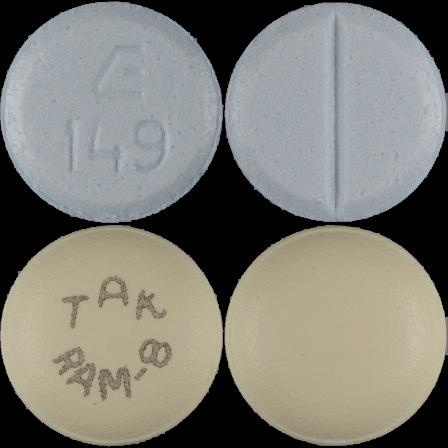21695-181: (0, 0, 224, 224)
